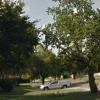Tree: (41, 2, 100, 84)
